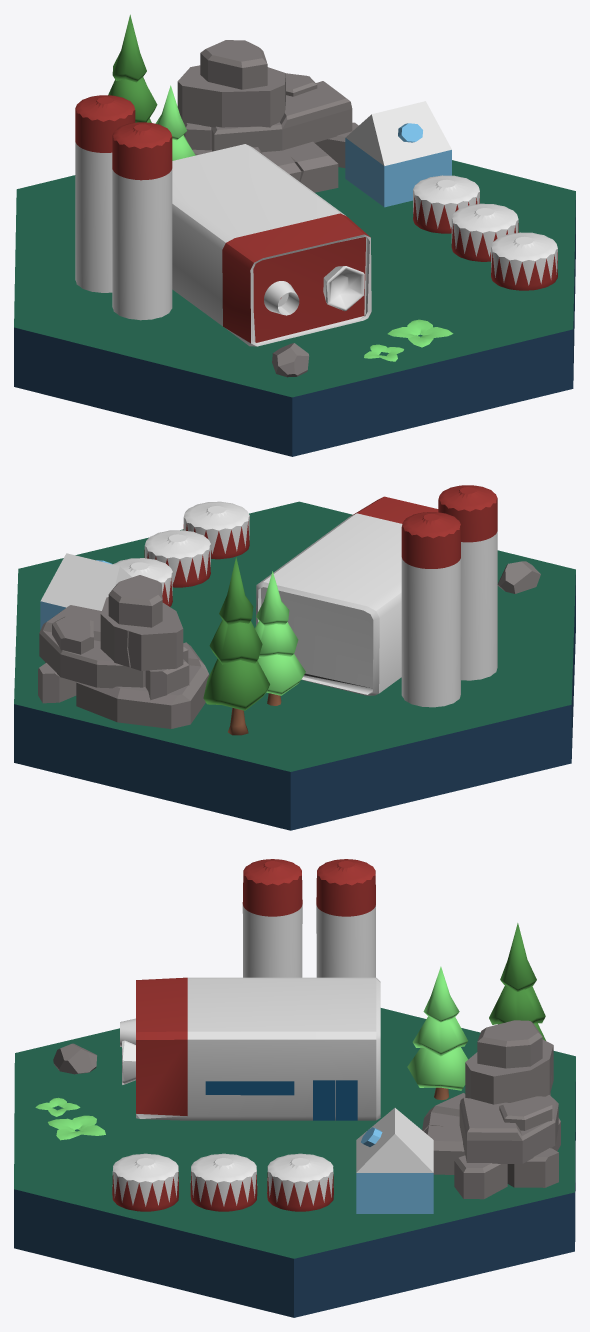
The model's file is Macro - Electric lvl 2 WM3.fbx.
3 views of the same model, one above another, from view 1: azimuth 30°, elevation 25°; view 2: azimuth 150°, elevation 25°; view 3: azimuth 270°, elevation 25° (orthographic).
Visible parts, largest first — view 1: Cylinder.154, Cube battery.011, Rock Type1 02 mesh.013, Cylinder battery.004, milkbox1.011, Cylinder battery.005, Cylinder battery.003, Cylinder battery.002, Cylinder battery.001, Tree_Spruce_tiny_01.002, Tree_Spruce_tiny_01.001, Rock Type2 04 mesh.005 (+1 smaller); view 2: Cylinder.154, Cube battery.011, Rock Type1 02 mesh.013, Cylinder battery.005, Cylinder battery.004, Tree_Spruce_tiny_01.002, Tree_Spruce_tiny_01.001, milkbox1.011, Cylinder battery.003, Cylinder battery.002, Cylinder battery.001, Rock Type2 04 mesh.005; view 3: Cylinder.154, Cube battery.011, Rock Type1 02 mesh.013, milkbox1.011, Cylinder battery.004, Cylinder battery.005, Tree_Spruce_tiny_01.001, Cylinder battery.001, Cylinder battery.002, Cylinder battery.003, Tree_Spruce_tiny_01.002, Plane.002 (+4 smaller).
Boxes of the visible parts, x1,y1,x2,y2 form: Cylinder.154: [14, 160, 575, 456]; Cube battery.011: [172, 144, 371, 346]; Rock Type1 02 mesh.013: [177, 40, 358, 192]; Cylinder battery.004: [112, 122, 172, 320]; milkbox1.011: [345, 101, 451, 207]; Cylinder battery.005: [75, 95, 135, 292]; Cylinder battery.003: [491, 232, 557, 290]; Cylinder battery.002: [451, 203, 518, 261]; Cylinder battery.001: [413, 175, 479, 233]; Tree_Spruce_tiny_01.002: [108, 14, 157, 122]; Tree_Spruce_tiny_01.001: [155, 85, 195, 160]; Rock Type2 04 mesh.005: [272, 343, 309, 377]; Cylinder.154: [14, 501, 575, 830]; Cube battery.011: [256, 496, 438, 695]; Rock Type1 02 mesh.013: [38, 575, 209, 728]; Cylinder battery.005: [401, 512, 460, 707]; Cylinder battery.004: [438, 485, 497, 680]; Tree_Spruce_tiny_01.002: [203, 557, 269, 735]; Tree_Spruce_tiny_01.001: [254, 571, 305, 705]; milkbox1.011: [40, 553, 131, 629]; Cylinder battery.003: [183, 501, 249, 559]; Cylinder battery.002: [144, 530, 210, 587]; Cylinder battery.001: [113, 558, 172, 606]; Rock Type2 04 mesh.005: [497, 561, 540, 593]; Cylinder.154: [14, 1008, 575, 1317]; Cube battery.011: [120, 977, 380, 1120]; Rock Type1 02 mesh.013: [422, 1020, 560, 1199]; milkbox1.011: [356, 1108, 433, 1213]; Cylinder battery.004: [242, 859, 302, 977]; Cylinder battery.005: [316, 859, 375, 977]; Tree_Spruce_tiny_01.001: [407, 966, 467, 1100]; Cylinder battery.001: [267, 1153, 333, 1211]; Cylinder battery.002: [190, 1153, 257, 1211]; Cylinder battery.003: [112, 1153, 178, 1211]; Tree_Spruce_tiny_01.002: [489, 923, 545, 1040]; Plane.002: [205, 1081, 294, 1095].
Size of the model in its own units: 197 by 80.5 by 172.
